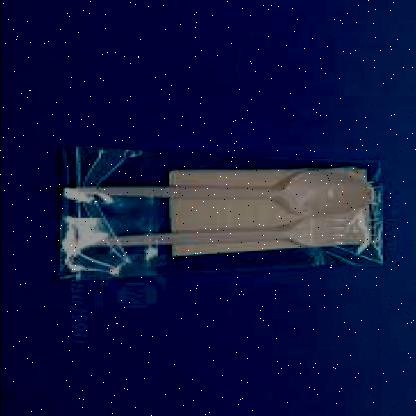Others: (64, 171, 376, 251)
